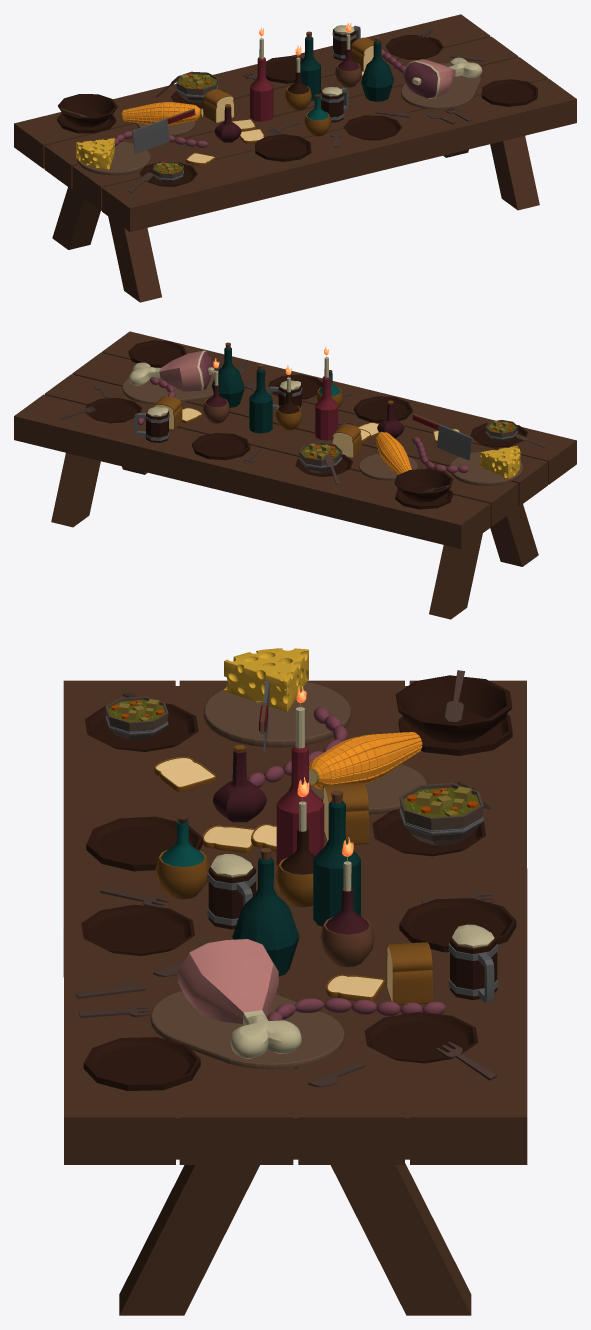
Rendered from Tavola Completa .fbx.
The picture shows the model from 3 angles, top to bottom: view 1: azimuth 30°, elevation 25°; view 2: azimuth 150°, elevation 25°; view 3: azimuth 270°, elevation 25°; orthographic projection. The views are drawn at different scales.
Parts seen in each view (by area): view 1: Table 2.001, Bottle 1.006, Bone 2.002, Plate 3.001, Cutter plan.002, pannocchia 2, Bottle 3.002, Plate 2.004, Plate 2.002, Cutter plan.001, Plate 1.005, Plate 1.004 (+15 smaller); view 2: Table 2.001, Bottle 1.006, Bone 2.002, Plate 3.001, Plate 2.003, Cutter plan.002, Bottle 2.001, Plate 2.004, Cutter plan.001, Plate 2.002, Plate 1.004, Bottle 3.002 (+16 smaller); view 3: Table 2.001, Bottle 1.006, Bone 2.002, Cutter plan.002, Plate 3.001, Cutter plan.001, Plate 2.004, Plate 1.005, Soup.002, Plate 1.004, pannocchia 2, Plate 2.002 (+20 smaller).
Boxes of the visible parts, x1=… form: Table 2.001: x1=14, y1=14, x2=576, y2=302; Bottle 1.006: x1=250, y1=22, x2=361, y2=121; Bone 2.002: x1=404, y1=57, x2=482, y2=98; Plate 3.001: x1=58, y1=94, x2=117, y2=127; Cutter plan.002: x1=401, y1=63, x2=480, y2=109; pannocchia 2: x1=120, y1=102, x2=203, y2=125; Bottle 3.002: x1=361, y1=36, x2=393, y2=101; Plate 2.004: x1=481, y1=79, x2=537, y2=106; Plate 2.002: x1=255, y1=134, x2=311, y2=161; Cutter plan.001: x1=76, y1=141, x2=150, y2=175; Plate 1.005: x1=344, y1=115, x2=401, y2=140; Plate 1.004: x1=385, y1=35, x2=443, y2=59; Table 2.001: x1=14, y1=331, x2=576, y2=619; Bottle 1.006: x1=203, y1=346, x2=338, y2=440; Bone 2.002: x1=128, y1=350, x2=214, y2=391; Plate 3.001: x1=394, y1=468, x2=453, y2=502; Plate 2.003: x1=192, y1=432, x2=250, y2=460; Cutter plan.002: x1=122, y1=372, x2=214, y2=404; Bottle 2.001: x1=249, y1=364, x2=272, y2=433; Plate 2.004: x1=128, y1=340, x2=186, y2=367; Cutter plan.001: x1=450, y1=451, x2=523, y2=485; Plate 2.002: x1=354, y1=396, x2=412, y2=422; Plate 1.004: x1=86, y1=397, x2=141, y2=423; Bottle 3.002: x1=211, y1=342, x2=244, y2=407; Table 2.001: x1=63, y1=680, x2=527, y2=1315; Bottle 1.006: x1=275, y1=686, x2=374, y2=967; Bone 2.002: x1=177, y1=939, x2=301, y2=1058; Cutter plan.002: x1=150, y1=991, x2=344, y2=1069; Plate 3.001: x1=395, y1=675, x2=512, y2=742; Cutter plan.001: x1=203, y1=682, x2=350, y2=747; Plate 2.004: x1=83, y1=1037, x2=200, y2=1091; Plate 1.005: x1=81, y1=904, x2=194, y2=955; Soup.002: x1=399, y1=783, x2=483, y2=845; Plate 1.004: x1=364, y1=1012, x2=478, y2=1063; pannocchia 2: x1=309, y1=732, x2=422, y2=789; Plate 2.002: x1=86, y1=816, x2=202, y2=871.
Bounding box in the file's own units: 685 × 294 × 307.
